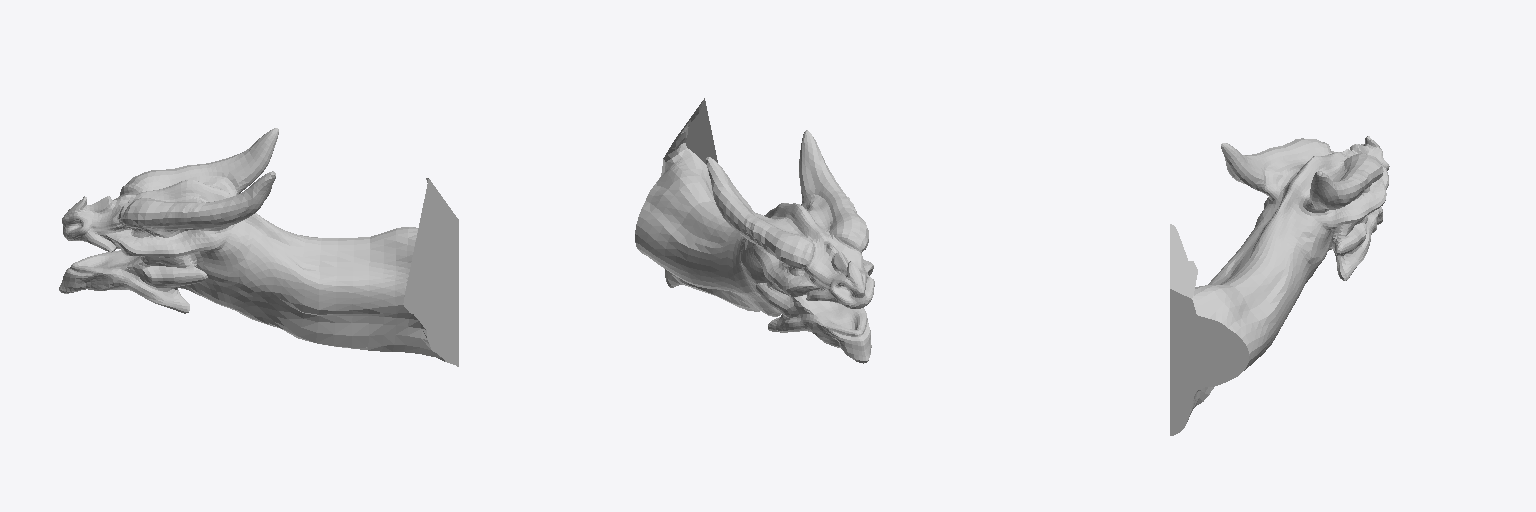
File: crojaprimera1.obj
3 renders of one model, left to right at view 1: azimuth 30°, elevation 25°; view 2: azimuth 150°, elevation 25°; view 3: azimuth 270°, elevation 25°, orthographic.
Parts seen in each view (by area): view 1: Ala_Derecha.007; view 2: Ala_Derecha.007; view 3: Ala_Derecha.007.
Boxes of the visible parts, x1=… form: Ala_Derecha.007: x1=59, y1=128, x2=458, y2=366; Ala_Derecha.007: x1=635, y1=98, x2=874, y2=363; Ala_Derecha.007: x1=1170, y1=136, x2=1389, y2=435.
Bounding box in the file's own units: 2.78 × 1.93 × 1.78.